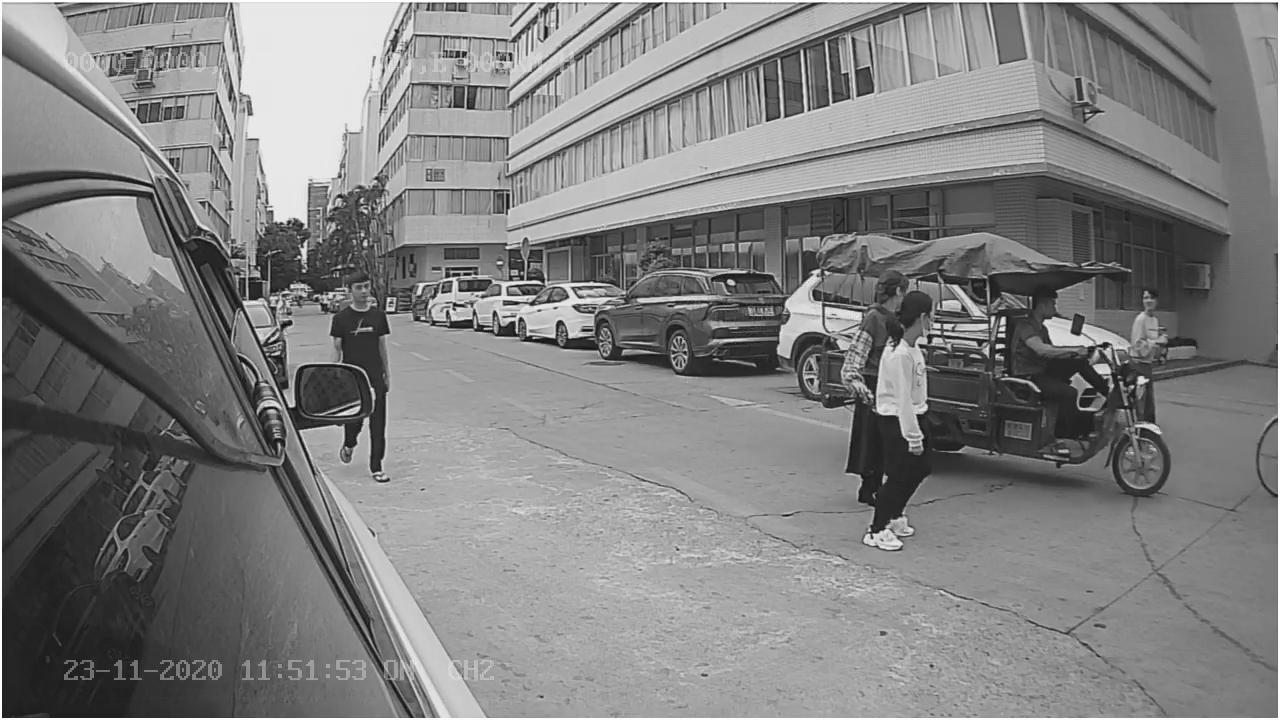person: (859, 286, 945, 553), (1010, 285, 1087, 359)
